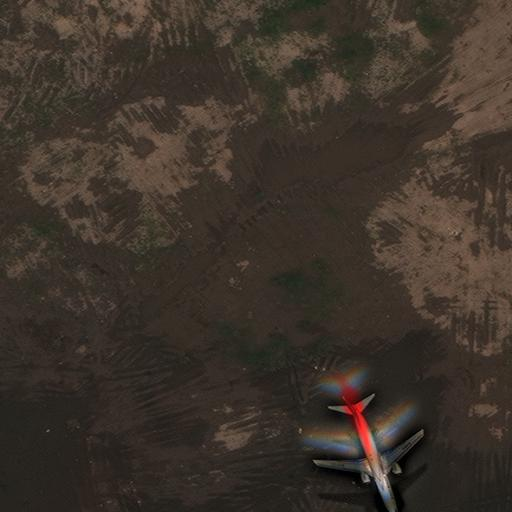Medium Civil Transport: (314, 404, 424, 511)
